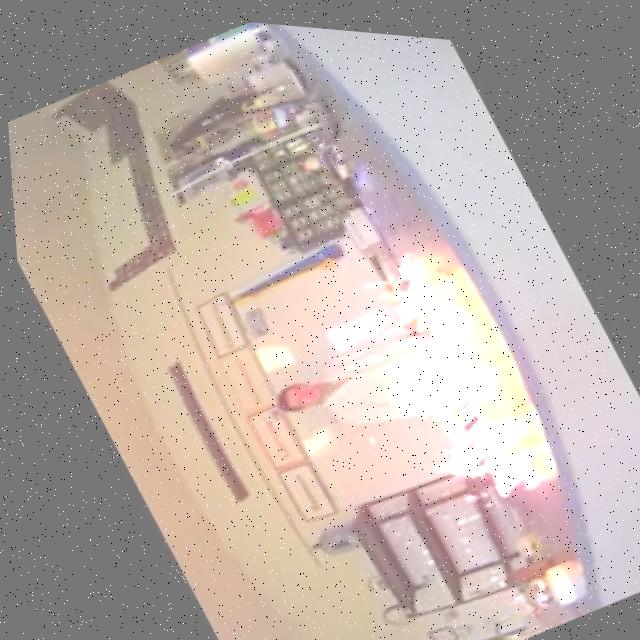Fire: (312, 224, 555, 527)
